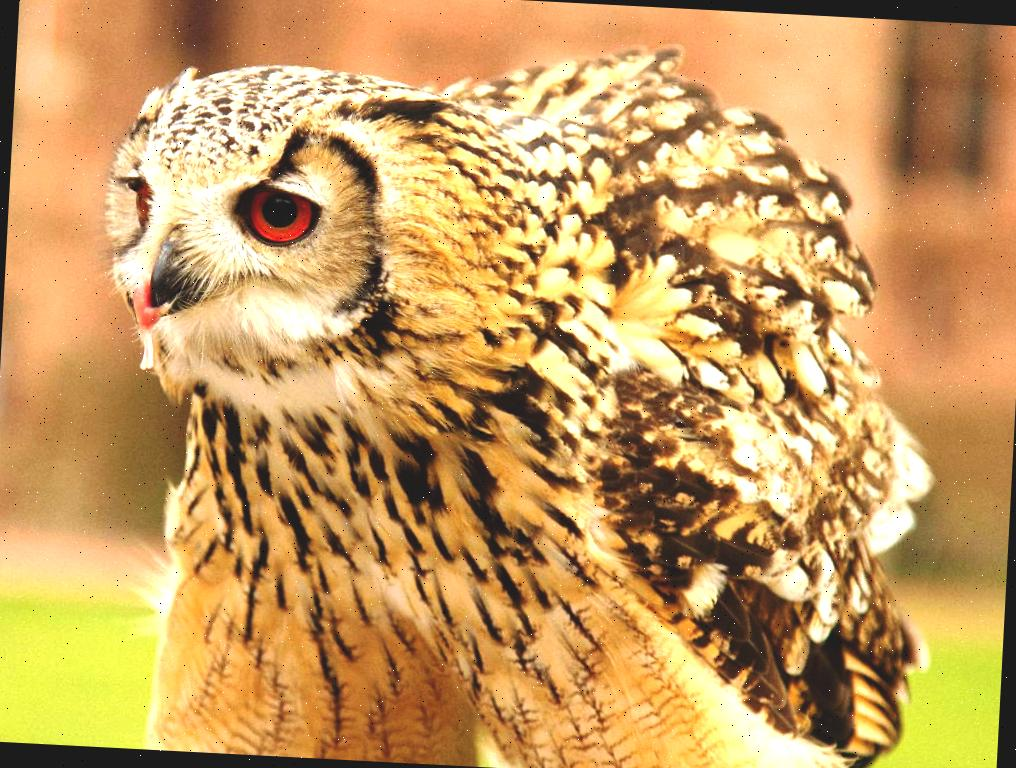Owl: (69, 12, 965, 768)
